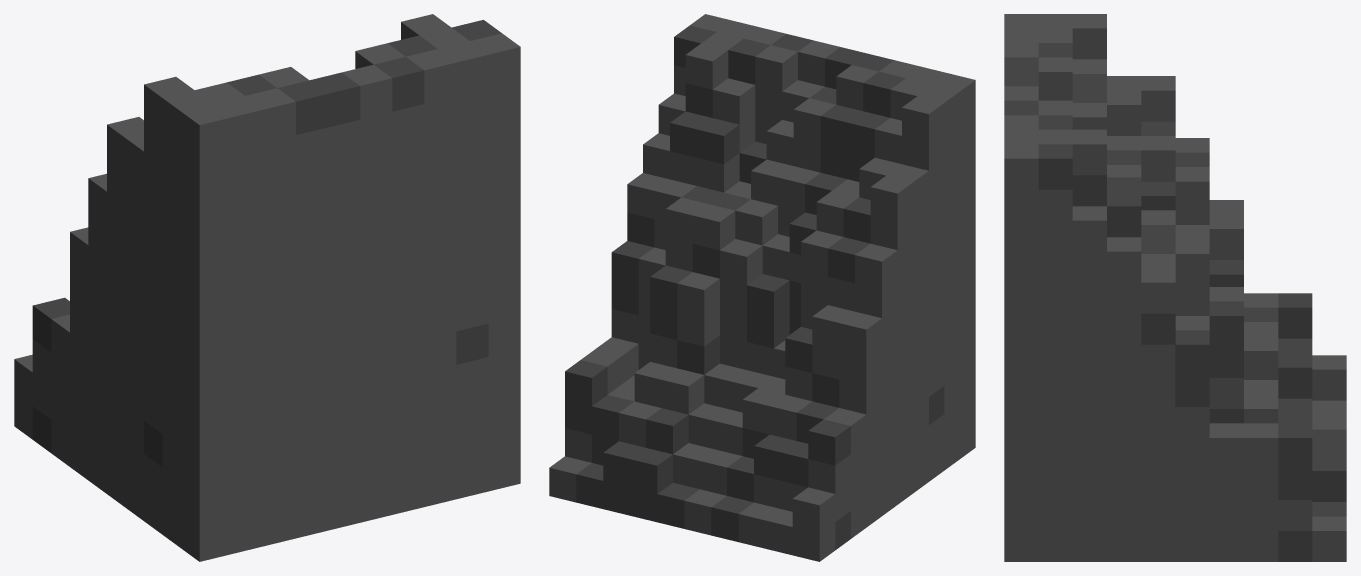
The model's file is Stein_Rand-ebene-4.0.obj.
The picture shows the model from 3 angles, left to right: view 1: azimuth 30°, elevation 25°; view 2: azimuth 150°, elevation 25°; view 3: azimuth 270°, elevation 25°; orthographic projection. The views are drawn at different scales.
Size of the model in its own units: 1 by 1.3 by 1.
Materials: 1 (1 with a texture image).
